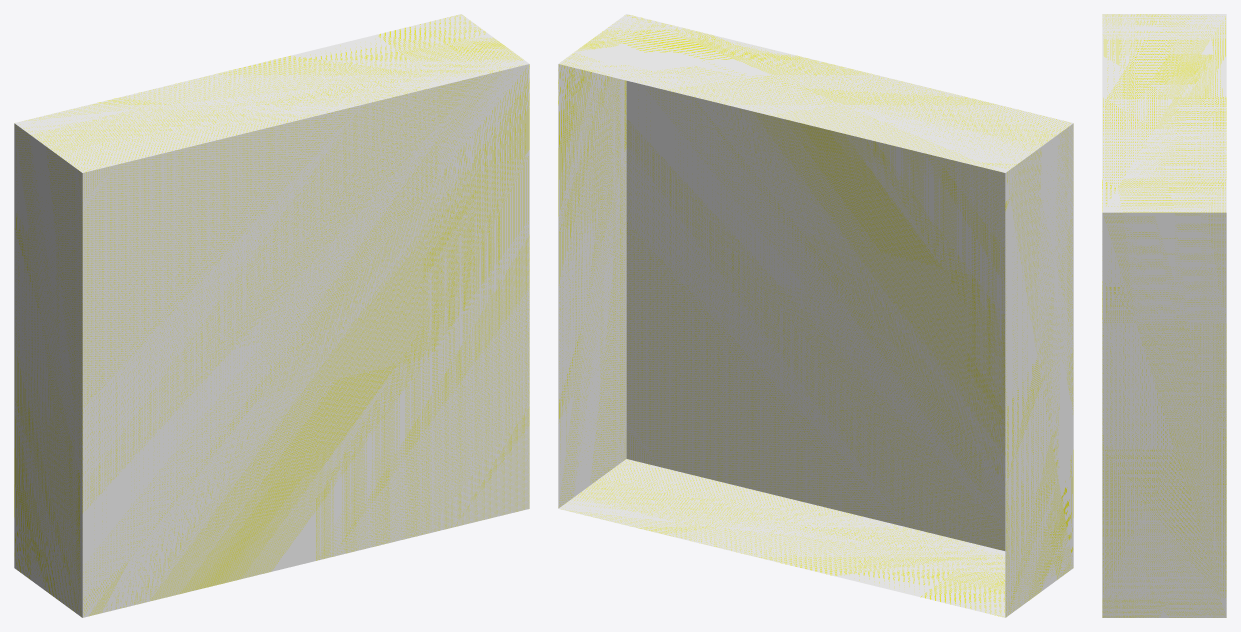
File: original-87.obj
3 views of the same model, side by side, from view 1: azimuth 30°, elevation 25°; view 2: azimuth 150°, elevation 25°; view 3: azimuth 270°, elevation 25° (orthographic). The views are drawn at different scales.
Parts seen in each view (by area): view 1: mesh2/mesh2-geometry/material_8#mesh2-geometry; view 2: mesh2/mesh2-geometry/material_8#mesh2-geometry; view 3: mesh2/mesh2-geometry/material_8#mesh2-geometry.
Boxes of the visible parts, <box> form: mesh2/mesh2-geometry/material_8#mesh2-geometry: <box>14,14,529,617</box>; mesh2/mesh2-geometry/material_8#mesh2-geometry: <box>558,14,1073,617</box>; mesh2/mesh2-geometry/material_8#mesh2-geometry: <box>1102,14,1226,617</box>.
Size of the model in its own units: 0.0251 by 0.0239 by 0.00665.
